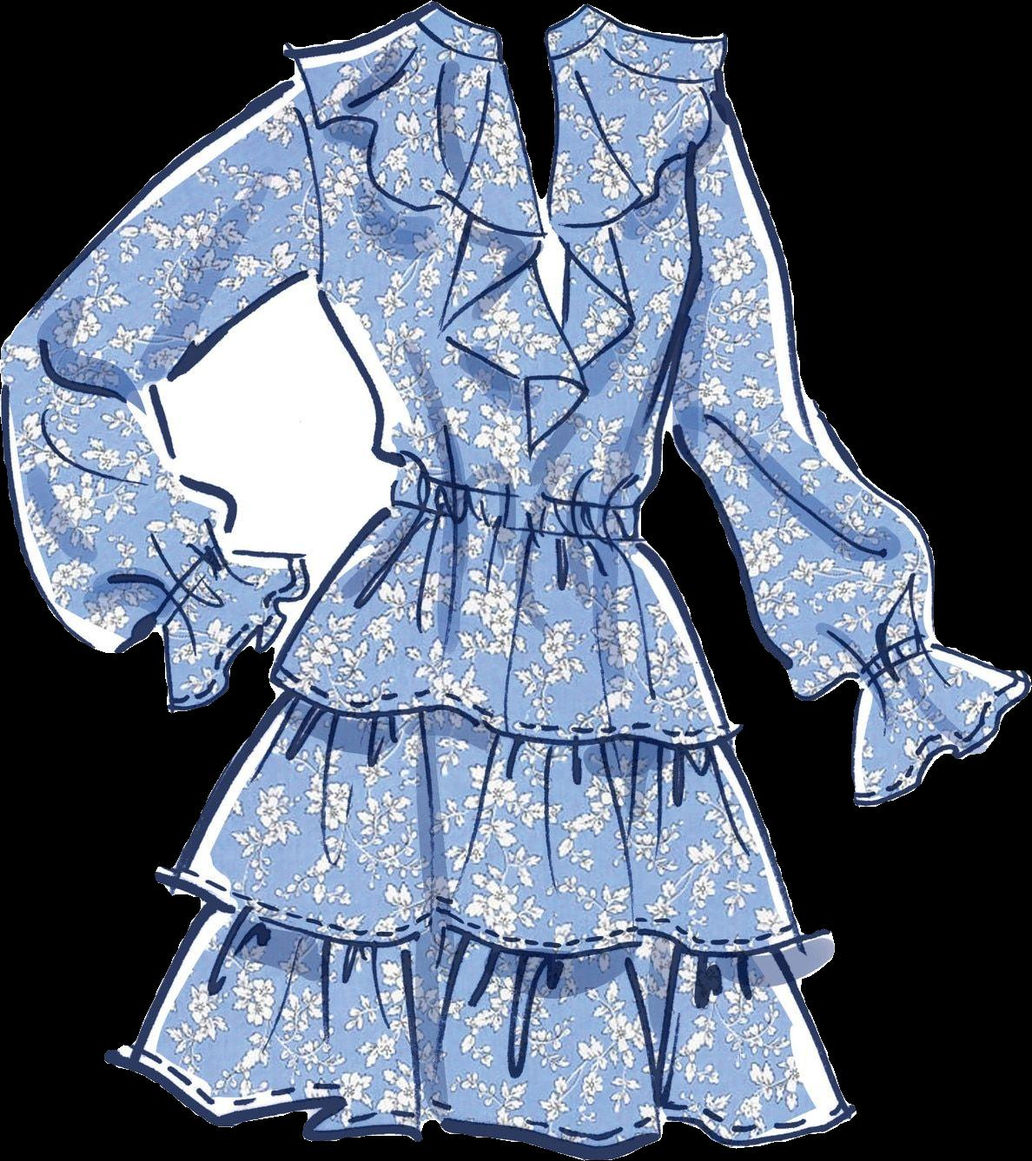Bodice: (275, 2, 726, 535)
Hemline: (116, 1056, 855, 1156), (156, 872, 804, 958), (261, 670, 737, 753)
Neckline: (424, 0, 587, 216)
Skirt: (107, 505, 864, 1158)
Sleeve: (664, 97, 1031, 808), (0, 76, 319, 711)
Sleeveline: (278, 80, 330, 273), (687, 105, 741, 263), (147, 544, 227, 633), (852, 636, 938, 687)
Waistline: (290, 30, 733, 550)
